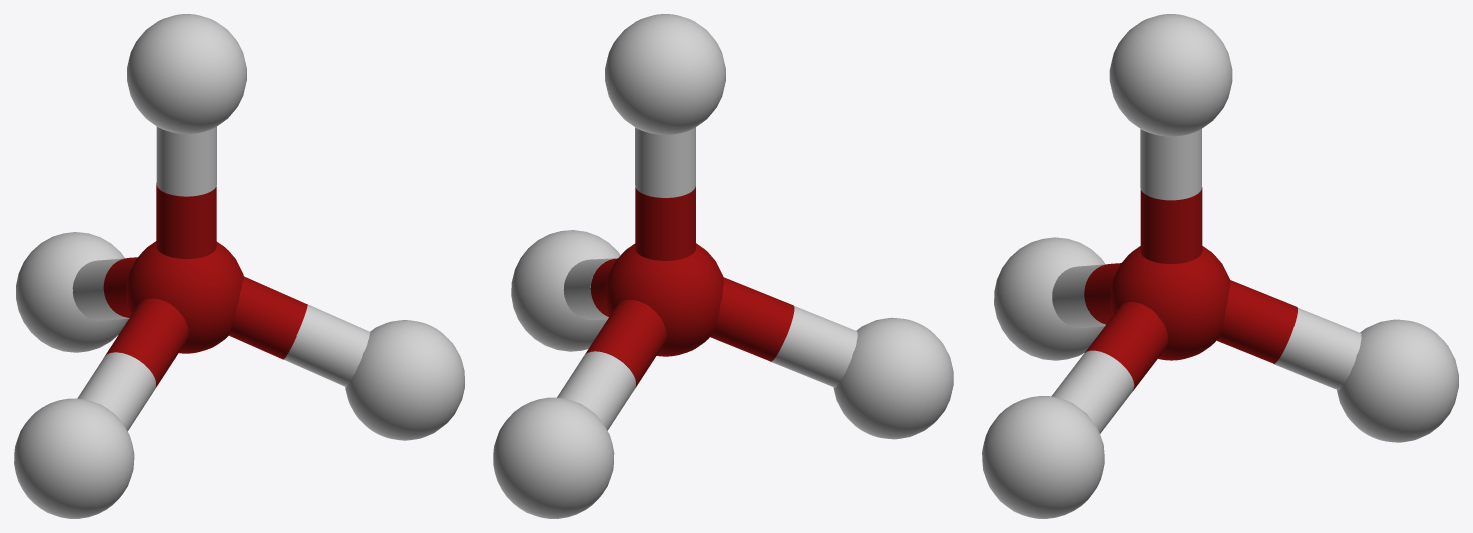
The model's file is Atom Shape 4 - Tetrahedral.fbx.
3 renders of one model, left to right at view 1: azimuth 30°, elevation 25°; view 2: azimuth 150°, elevation 25°; view 3: azimuth 270°, elevation 25°, orthographic. The views are drawn at different scales.
Visible parts, largest first — view 1: Sphere_1_3, Sphere_1, Sphere_1_4, Sphere_1_2, Sphere, Cylinder_2_5, Cylinder, Cylinder_1, Cylinder_3, Cylinder_2, Cylinder_2_3, Cylinder_2_2 (+1 smaller); view 2: Sphere_1_2, Sphere_1, Sphere_1_3, Sphere, Sphere_1_4, Cylinder_1, Cylinder_2_3, Cylinder_3, Cylinder_2, Cylinder_2_4, Cylinder_2_2, Cylinder_2_5 (+1 smaller); view 3: Sphere_1_4, Sphere_1, Sphere_1_2, Sphere, Sphere_1_3, Cylinder_2_2, Cylinder_2_4, Cylinder_3, Cylinder_2, Cylinder, Cylinder_2_5, Cylinder_2_3 (+1 smaller).
Boxes of the visible parts, x1,y1,x2,y2 form: Sphere_1_3: [14, 398, 134, 518]; Sphere_1: [127, 14, 246, 133]; Sphere_1_4: [345, 320, 464, 440]; Sphere_1_2: [16, 232, 128, 352]; Sphere: [126, 241, 243, 353]; Cylinder_2_5: [284, 304, 370, 386]; Cylinder: [229, 276, 307, 359]; Cylinder_1: [105, 298, 188, 387]; Cylinder_3: [156, 183, 216, 258]; Cylinder_2: [156, 126, 216, 196]; Cylinder_2_3: [78, 352, 155, 431]; Cylinder_2_2: [72, 258, 129, 320]; Sphere_1_2: [493, 397, 614, 518]; Sphere_1: [605, 14, 725, 134]; Sphere_1_3: [833, 317, 953, 439]; Sphere: [605, 243, 723, 356]; Sphere_1_4: [511, 230, 620, 351]; Cylinder_1: [710, 277, 794, 361]; Cylinder_2_3: [770, 306, 857, 387]; Cylinder_3: [635, 186, 695, 260]; Cylinder_2: [635, 127, 695, 197]; Cylinder_2_4: [585, 299, 666, 388]; Cylinder_2_2: [557, 351, 635, 430]; Cylinder_2_5: [563, 258, 616, 320]; Sphere_1_4: [982, 396, 1104, 518]; Sphere_1: [1109, 14, 1232, 136]; Sphere_1_2: [1337, 319, 1458, 442]; Sphere: [1110, 246, 1229, 360]; Sphere_1_3: [994, 237, 1105, 360]; Cylinder_2_2: [1273, 308, 1361, 390]; Cylinder_2_4: [1216, 280, 1297, 363]; Cylinder_3: [1140, 187, 1202, 263]; Cylinder_2: [1140, 129, 1201, 200]; Cylinder: [1085, 301, 1168, 391]; Cylinder_2_5: [1051, 350, 1134, 433]; Cylinder_2_3: [1052, 264, 1105, 327].
Size of the model in its own units: 821 by 751 by 774.
